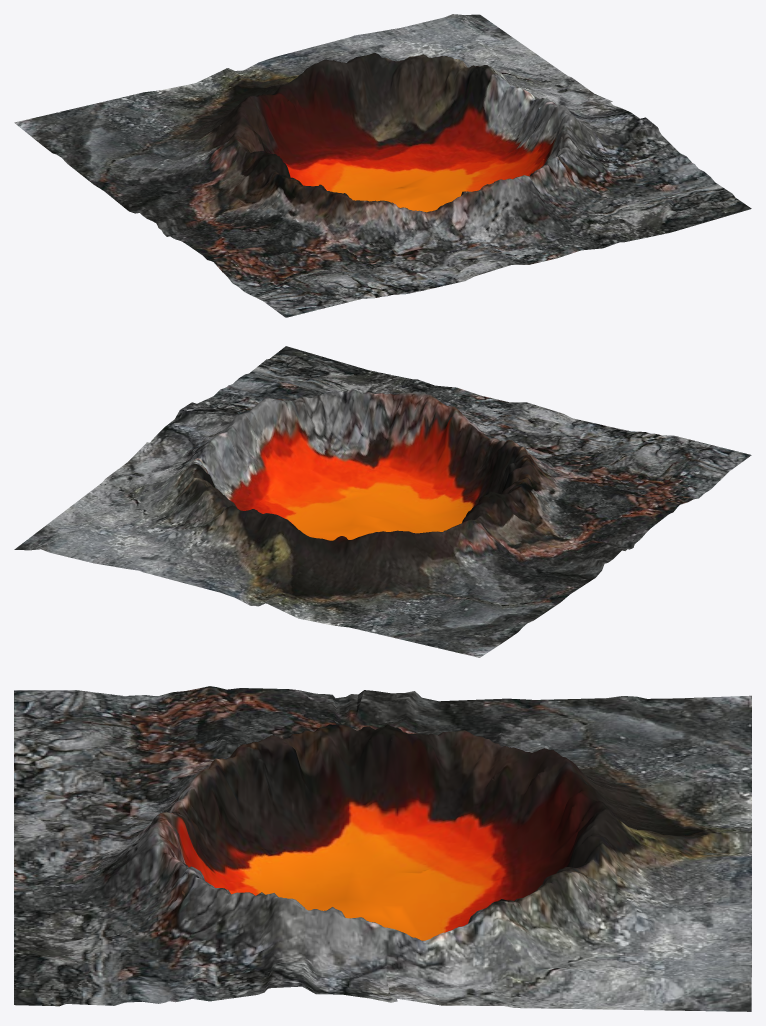
File: crater.fbx
3 renders of one model, top to bottom at view 1: azimuth 30°, elevation 25°; view 2: azimuth 150°, elevation 25°; view 3: azimuth 270°, elevation 25°, orthographic. The views are drawn at different scales.
Visible parts, largest first — view 1: Mesher_LOD3; view 2: Mesher_LOD3; view 3: Mesher_LOD3.
Boxes of the visible parts, x1,y1,x2,y2 form: Mesher_LOD3: (14,14,751,317); Mesher_LOD3: (14,346,751,657); Mesher_LOD3: (14,686,751,1011).
Size of the model in its own units: 1.42 by 0.2192 by 1.43.
